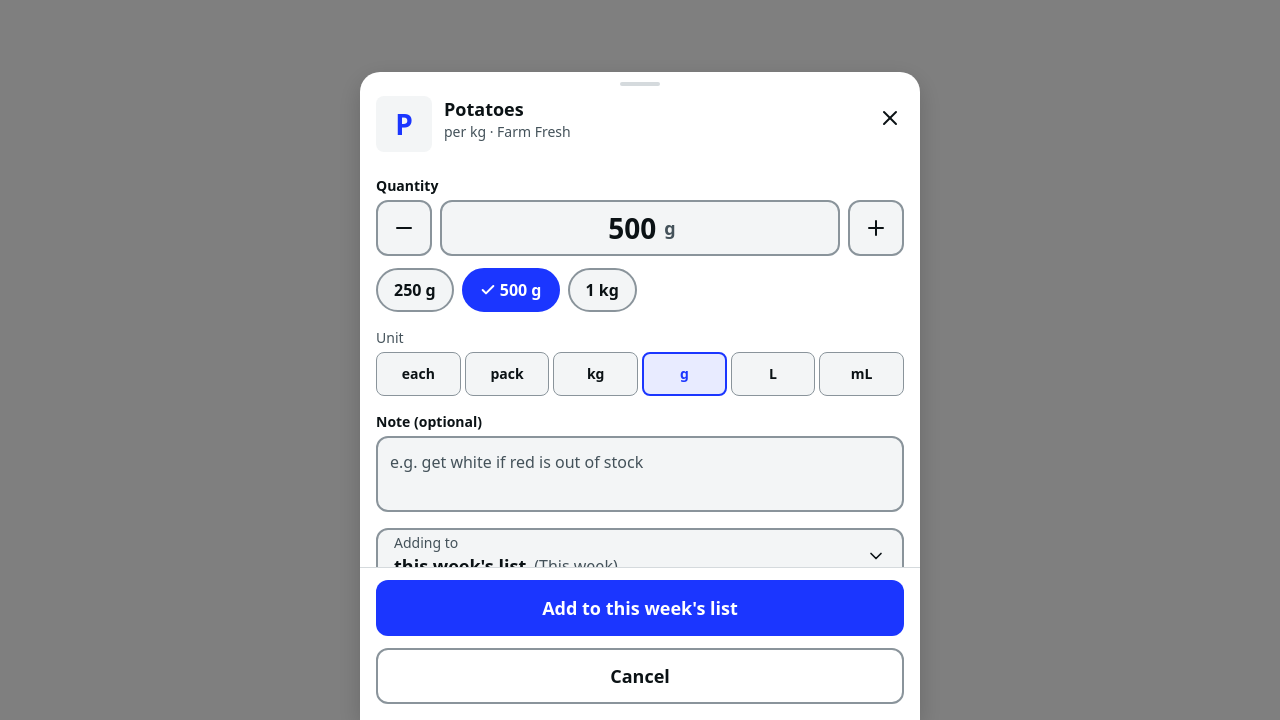
QuantityModal › uses g and mL defaults, steps and presets
Expected: the dialog is shown, [360,72,920,719]
Expected: the field labelled "Quantity" holds "500", [600,202,664,254]
Click the button named "Increase quantity".
click(876, 228)  # box [848,200,904,256]
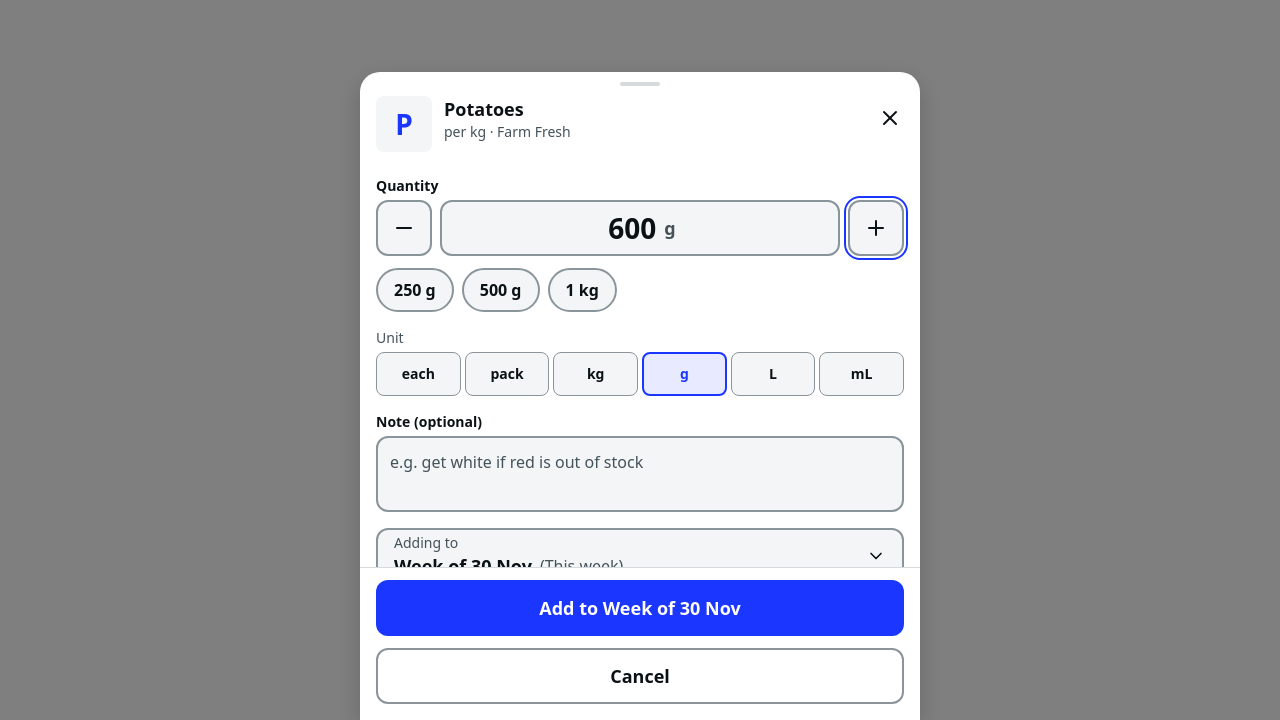
Now the field labelled "Quantity" holds "600", box [600,202,664,254]
# 1000 g presents as "1 kg" but stays grams.
Click the button "1 kg".
click(582, 290)  # box [548,268,617,312]
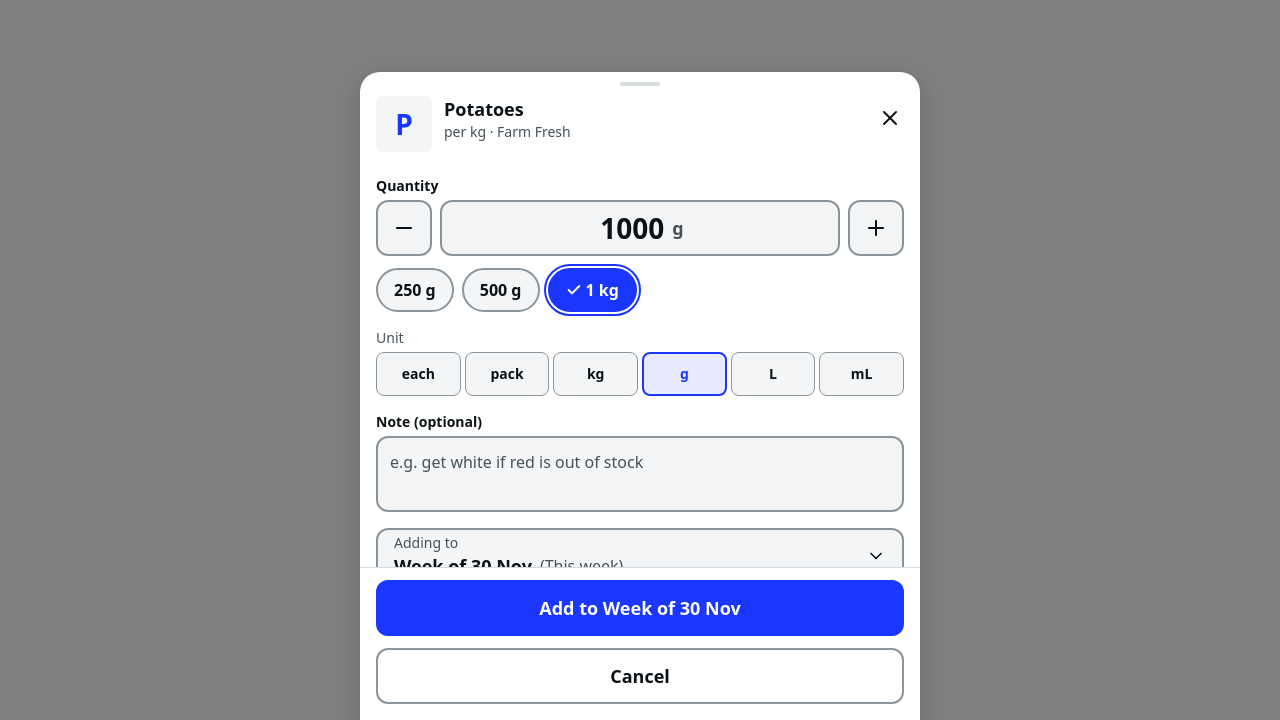
Now the field labelled "Quantity" holds "1000", box [592,202,672,254]
